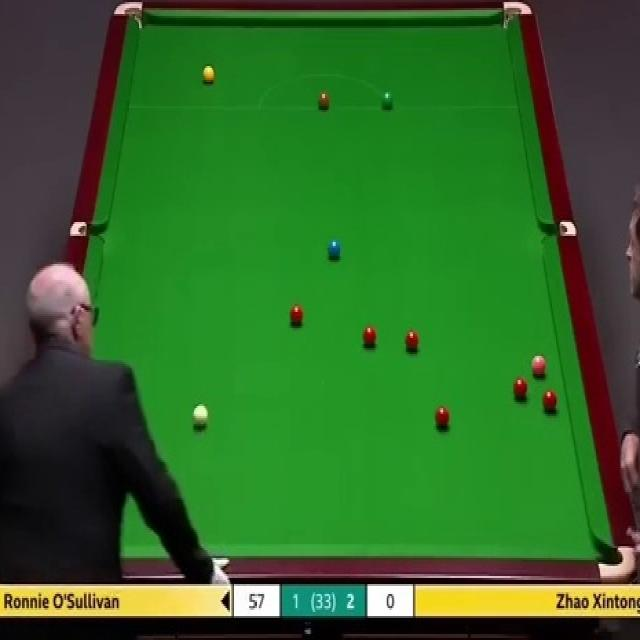blue-ball: (328, 239, 341, 261)
brown-ball: (318, 93, 330, 110)
green-ball: (382, 90, 393, 110)
pink-ball: (531, 353, 548, 378)
red-ball: (433, 405, 451, 430), (405, 327, 420, 352), (362, 325, 376, 349), (513, 378, 528, 399), (544, 391, 557, 413), (291, 302, 303, 324)
white-ball: (190, 402, 208, 430)
yellow-ball: (202, 66, 216, 86)
